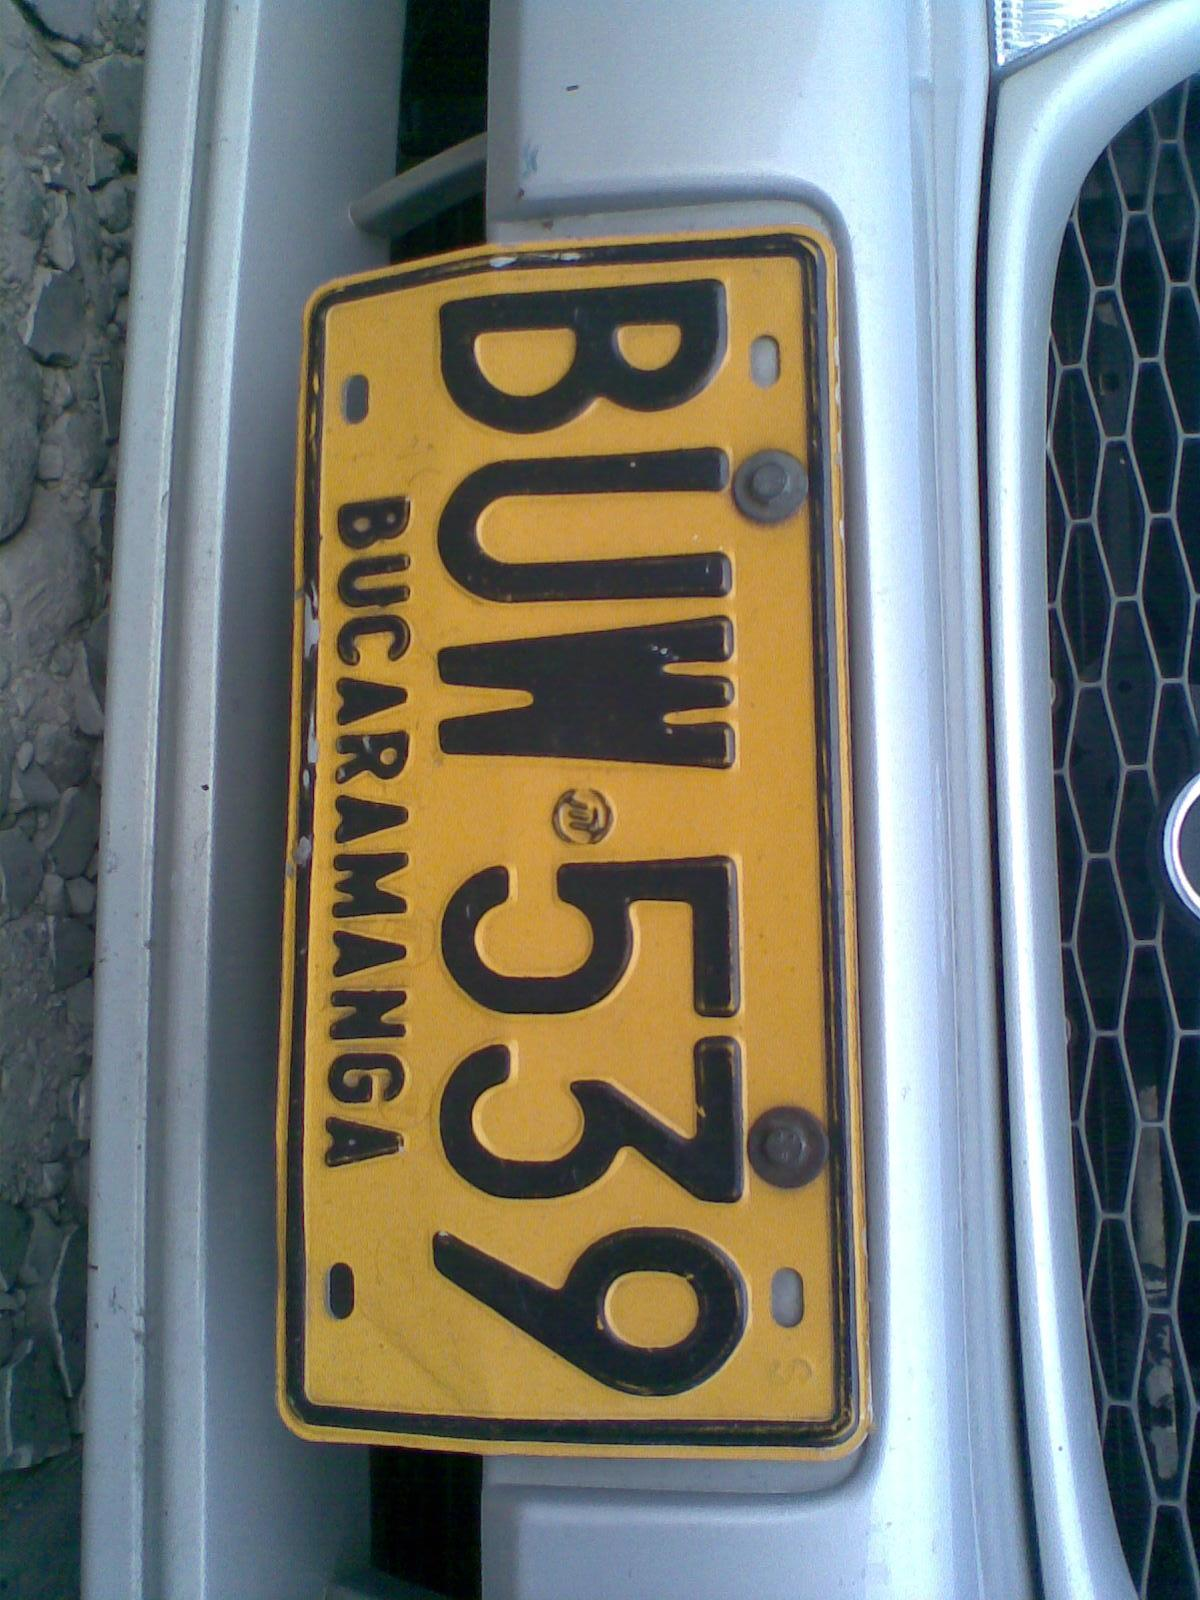placas: (256, 190, 898, 1487)
